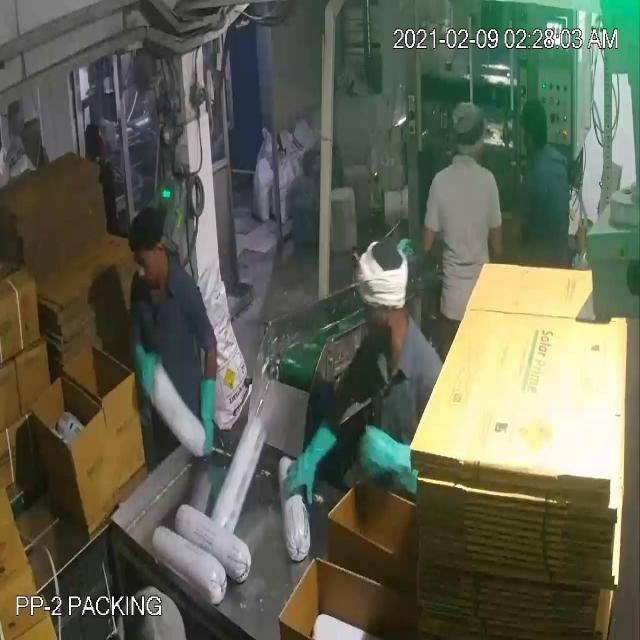Gloves: (38, 81, 391, 468)
